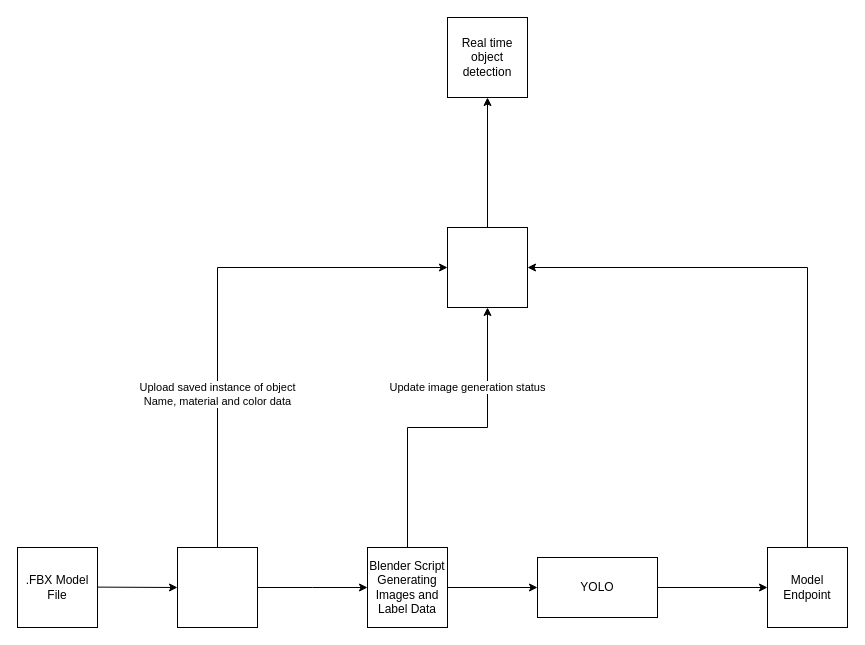
The diagram is 865 pixels wide and 645 high, and some of its shapes have lost their labels. Each missing label, with the centre of its shape:
"Database" belongs at pixel 487 267.
"MachineVisionAR Data Augmentation Platform" belongs at pixel 217 587.
